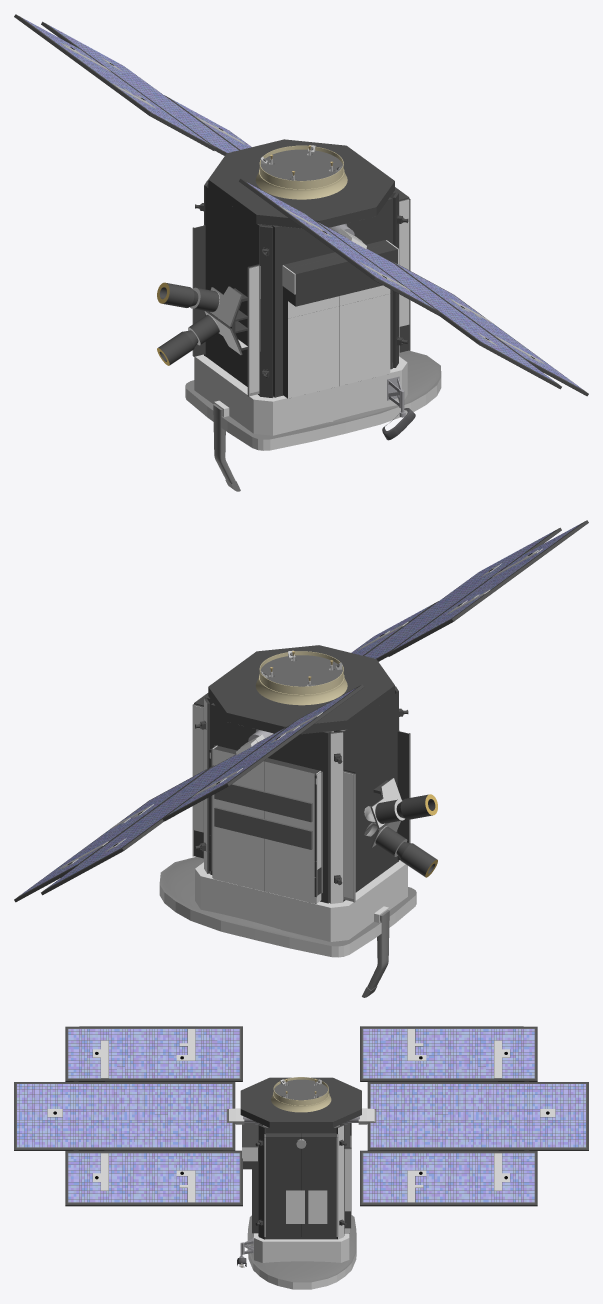
The model's file is cloudsat.glb.
3 views of the same model, one above another, from view 1: azimuth 30°, elevation 25°; view 2: azimuth 150°, elevation 25°; view 3: azimuth 270°, elevation 25° (orthographic). The views are drawn at different scales.
Visible parts, largest first — view 1: Layer_0; view 2: Layer_0; view 3: Layer_0.
Boxes of the visible parts, bbox=[...] form: Layer_0: bbox=[14, 14, 588, 491]; Layer_0: bbox=[14, 520, 588, 997]; Layer_0: bbox=[14, 1026, 588, 1289].
Bounding box in the file's own units: 61.39 × 76.6 × 172.
